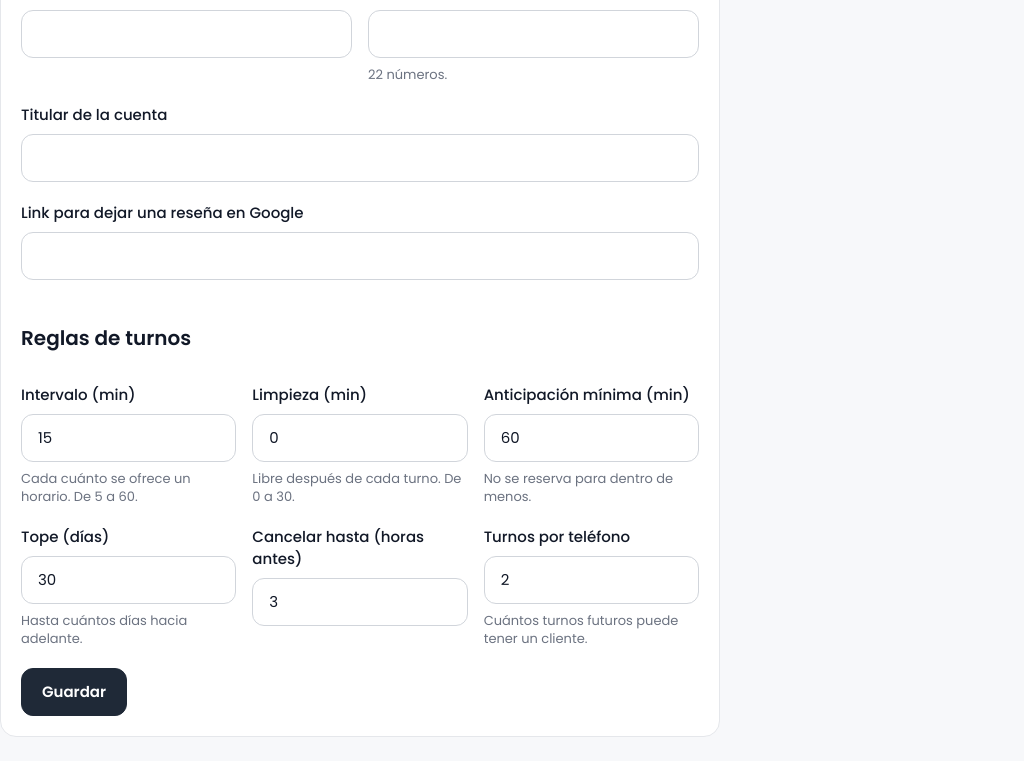
Test: Configuración del local › HU-32 CA3: los valores fuera de rango se marcan en su campo
(page scrolled)
Replace the text in the number field labelled "Intervalo (min)" with "61": (129, 438) [21, 414, 236, 462]
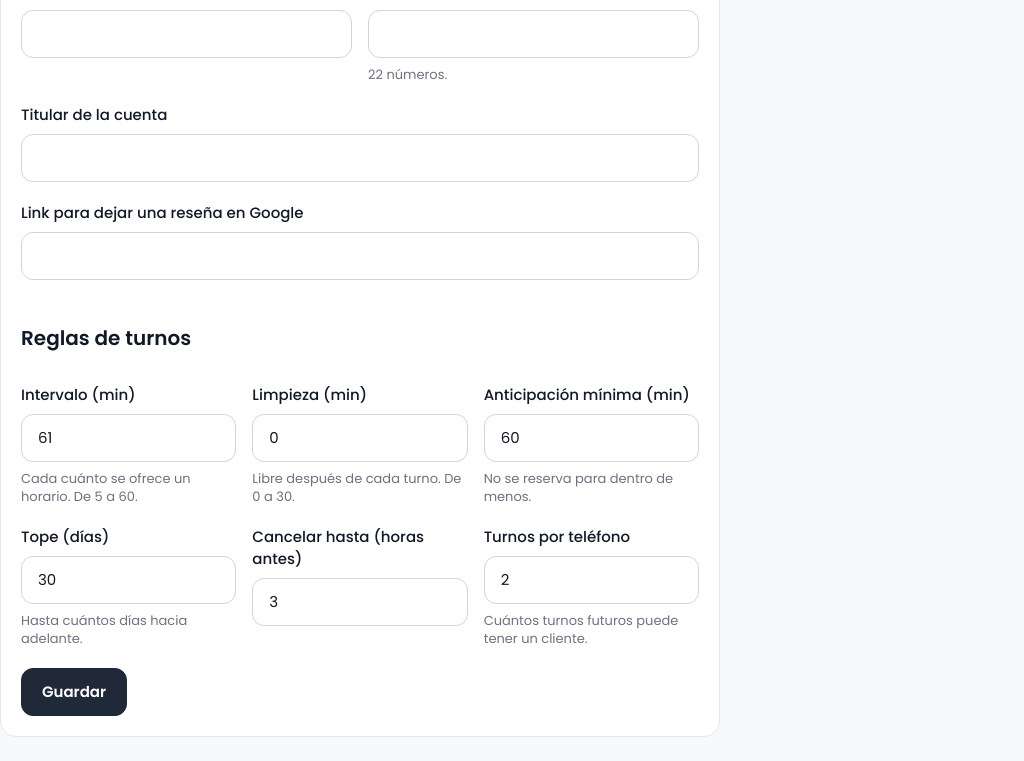
Click the button "Guardar": (74, 692) [21, 668, 127, 716]
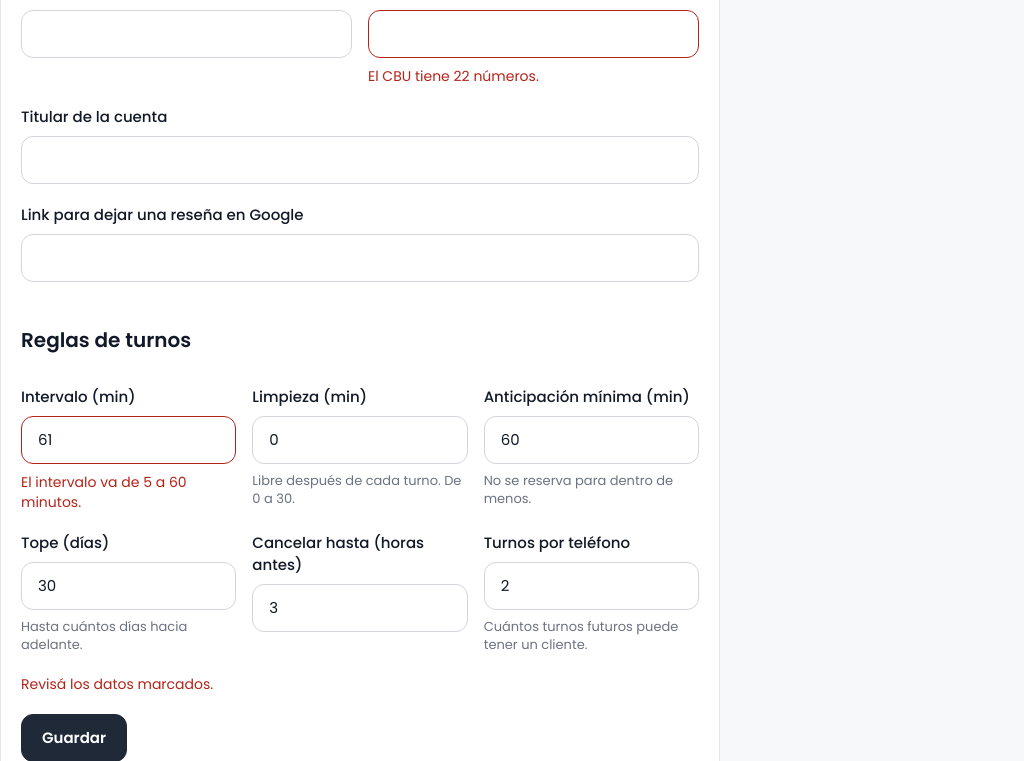
Expected: the text "El intervalo va de 5 a 60 minutos." is shown, [21, 472, 187, 512]
Expected: the text "El CBU tiene 22 números." is shown, [368, 66, 539, 86]
